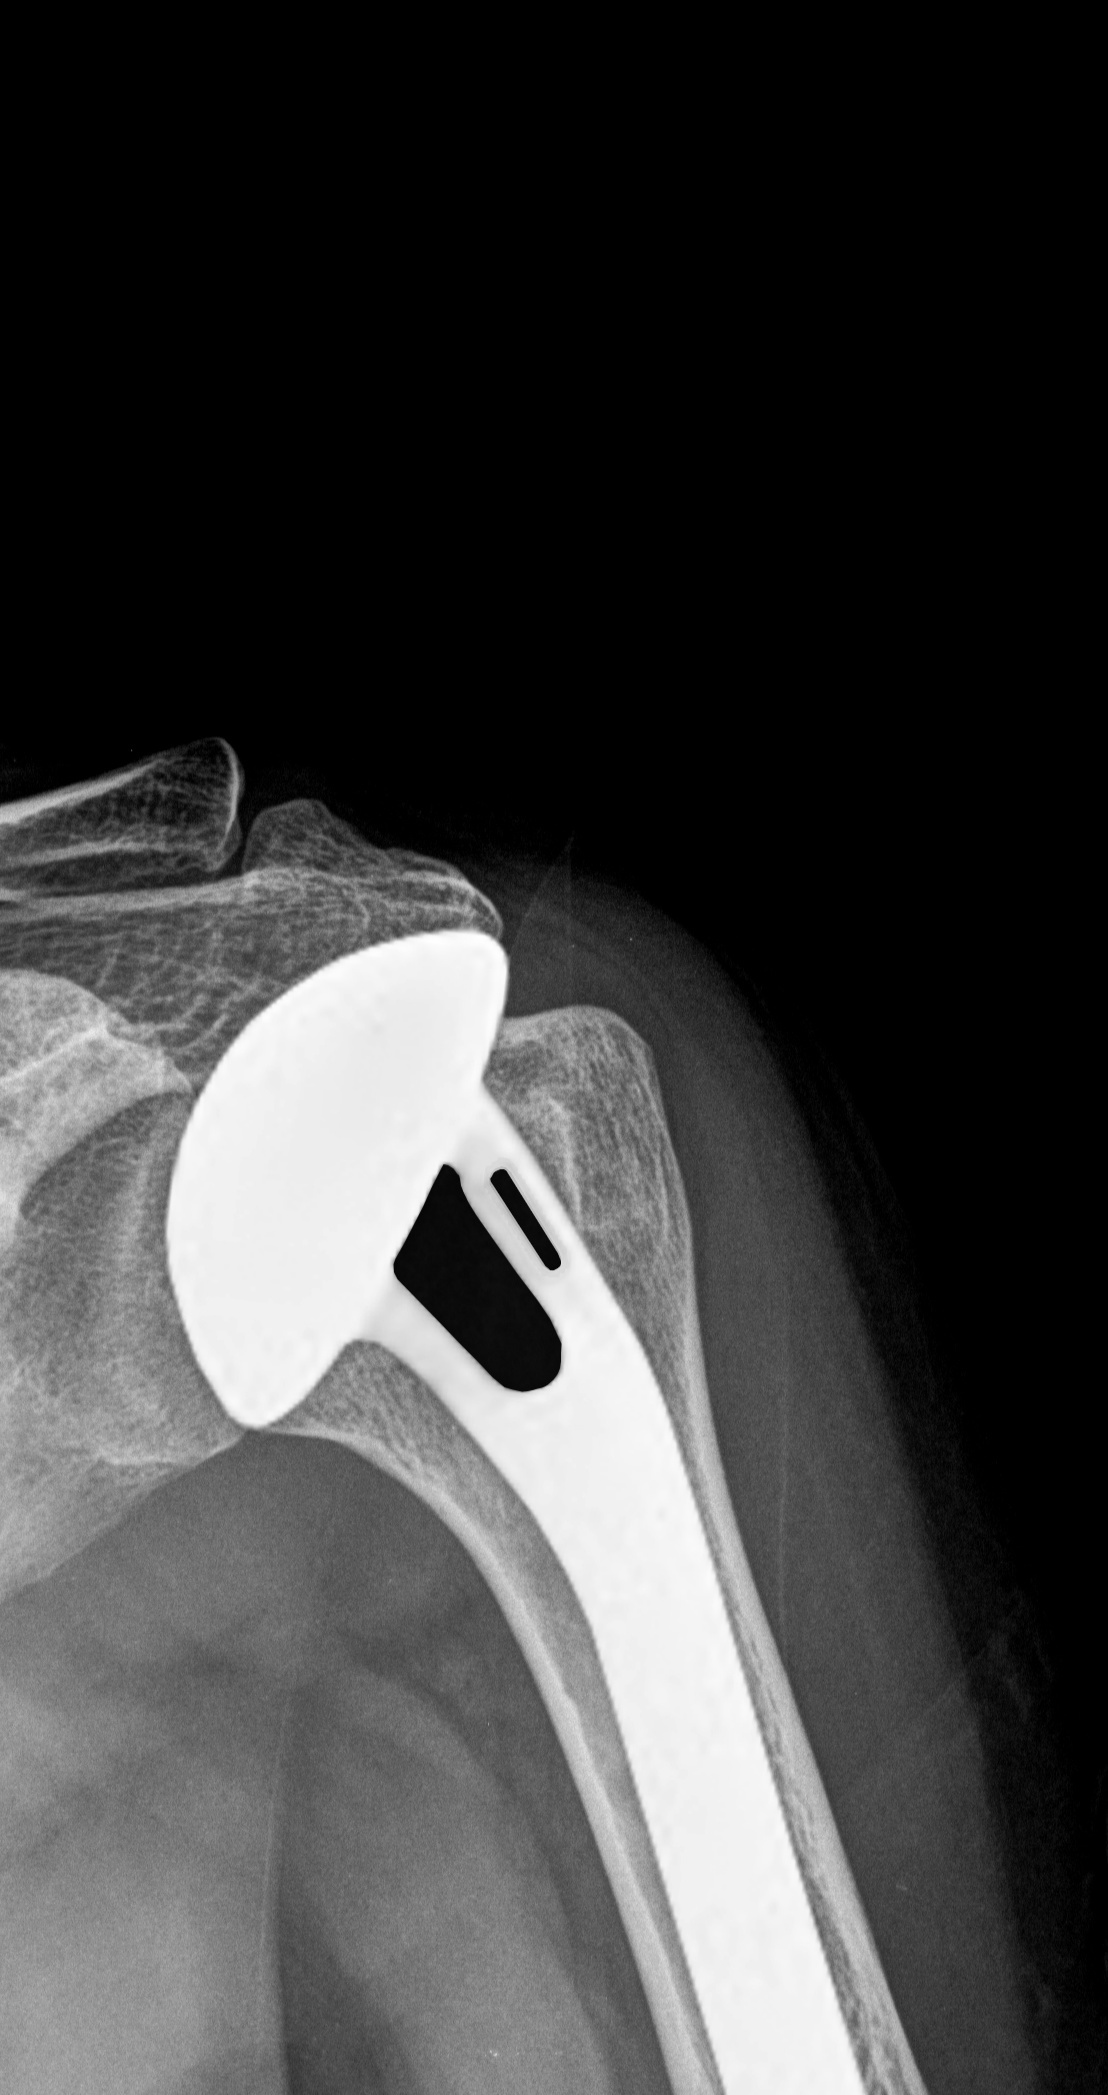Shoulder - AequalisFracture - Tornier: (119, 909, 600, 1447)
